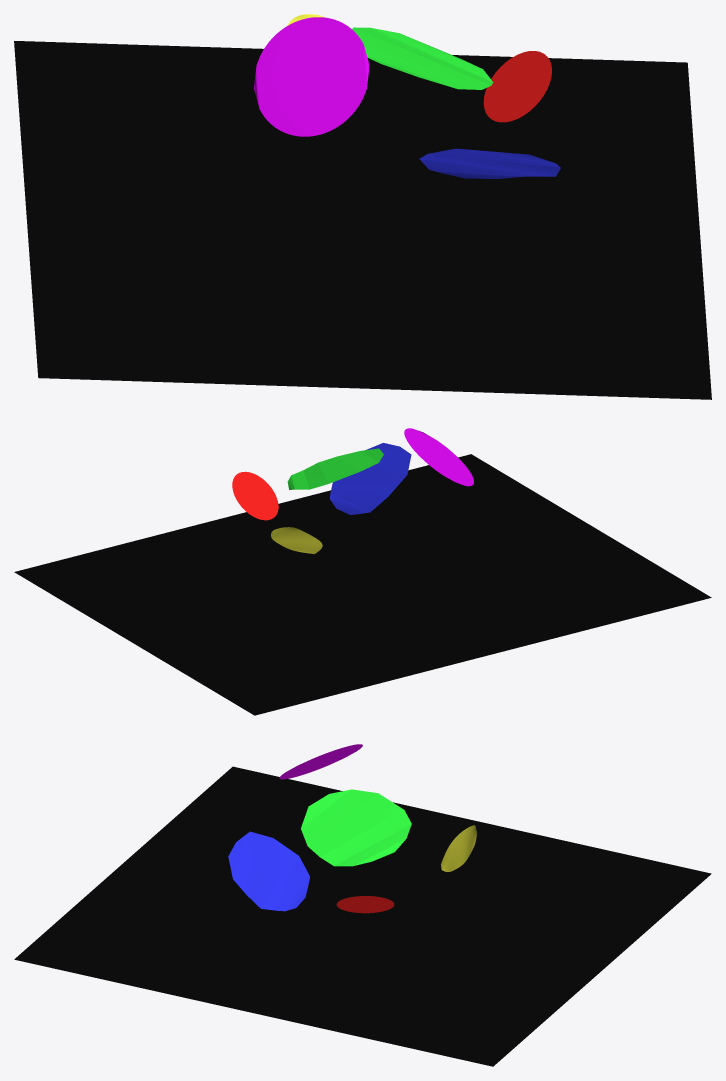
3 views of the same model, one above another, from view 1: azimuth 30°, elevation 25°; view 2: azimuth 150°, elevation 25°; view 3: azimuth 270°, elevation 25° (orthographic). The views are drawn at different scales.
Parts seen in each view (by area): view 1: p.0015, p.0053, s.0144, p.0022, s.0146; view 2: p.0015, s.0146, s.0144, p.0053, p.0022, s.0084; view 3: p.0015, s.0144, s.0146, s.0084, p.0053, p.0022.
Part boxes in pixels (bbox=[...]): p.0015: bbox=[14, 41, 711, 399]; p.0053: bbox=[254, 17, 369, 136]; s.0144: bbox=[352, 27, 493, 89]; p.0022: bbox=[483, 51, 551, 122]; s.0146: bbox=[419, 148, 560, 178]; p.0015: bbox=[14, 454, 711, 715]; s.0146: bbox=[330, 443, 411, 514]; s.0144: bbox=[287, 448, 383, 489]; p.0053: bbox=[404, 428, 473, 486]; p.0022: bbox=[232, 471, 278, 520]; s.0084: bbox=[271, 527, 322, 554]; p.0015: bbox=[14, 766, 711, 1066]; s.0144: bbox=[301, 789, 411, 866]; s.0146: bbox=[228, 831, 309, 911]; s.0084: bbox=[441, 825, 476, 871]; p.0053: bbox=[279, 744, 362, 779]; p.0022: bbox=[336, 896, 394, 913].
Size of the model in its own units: 0.7645 by 0.209 by 0.8026.
